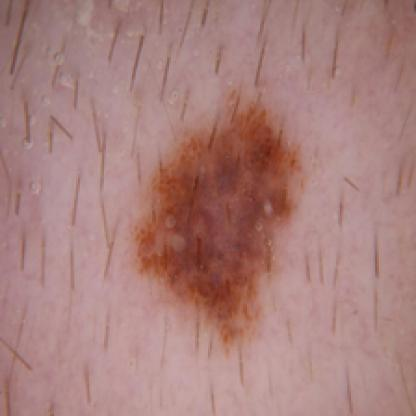Skin_Cancer-Malignant: (134, 102, 308, 346)
